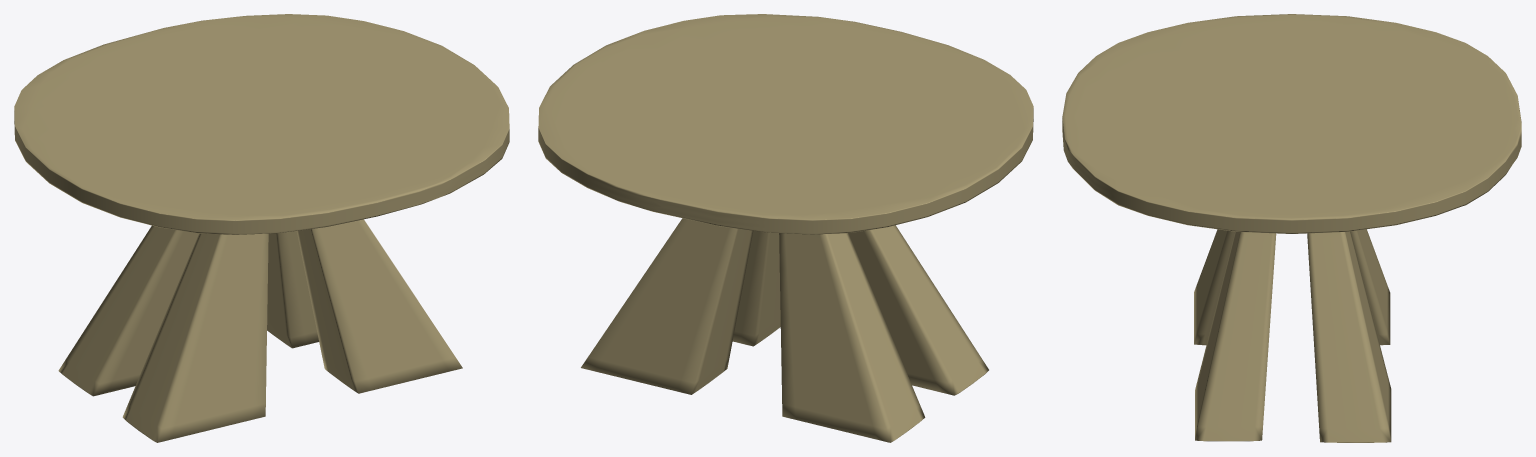
File: table.fbx
3 views of the same model, side by side, from view 1: azimuth 30°, elevation 25°; view 2: azimuth 150°, elevation 25°; view 3: azimuth 270°, elevation 25° (orthographic).
Parts seen in each view (by area): view 1: table; view 2: table; view 3: table.
Boxes of the visible parts, x1,y1,x2,y2 form: table: (14, 14, 509, 442); table: (538, 14, 1033, 442); table: (1062, 14, 1521, 442).
Bounding box in the file's own units: 19.06 × 10.86 × 17.99.
